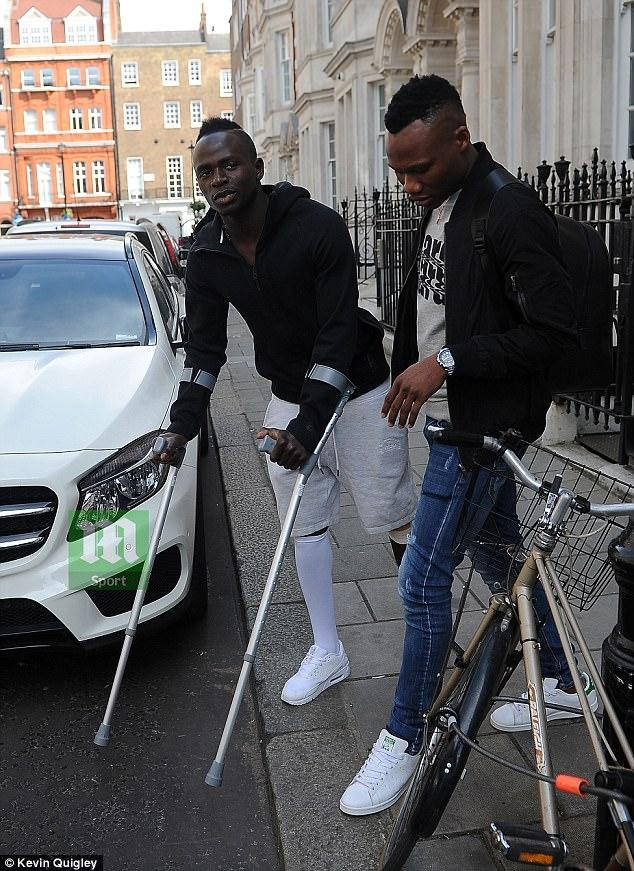crutches: (83, 83, 421, 834)
